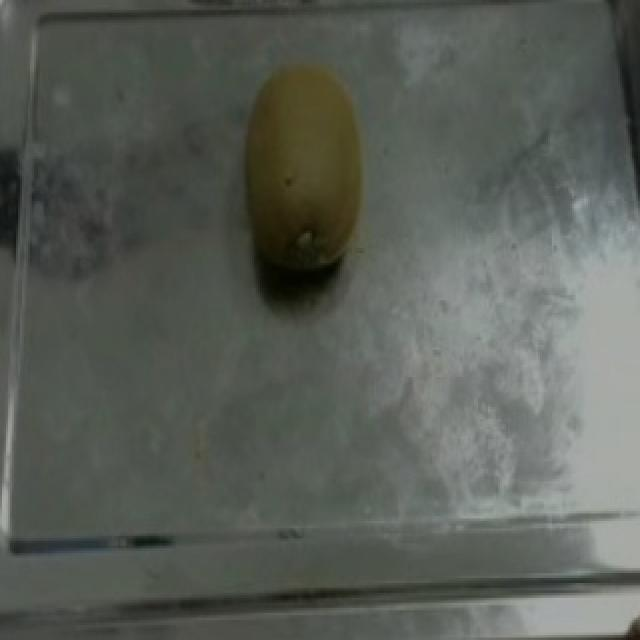Fruit: (228, 52, 384, 290)
